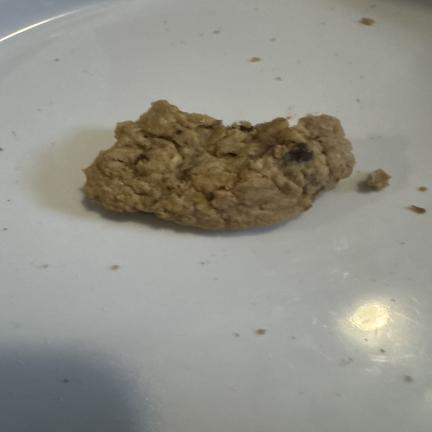cookie: (85, 101, 354, 229), (367, 169, 391, 190)
plate: (0, 0, 431, 431)
